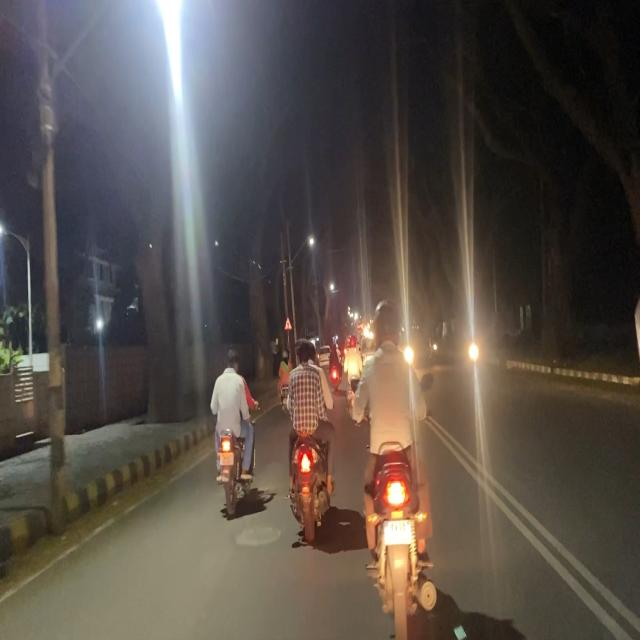bien_cam: (282, 315, 294, 332)
